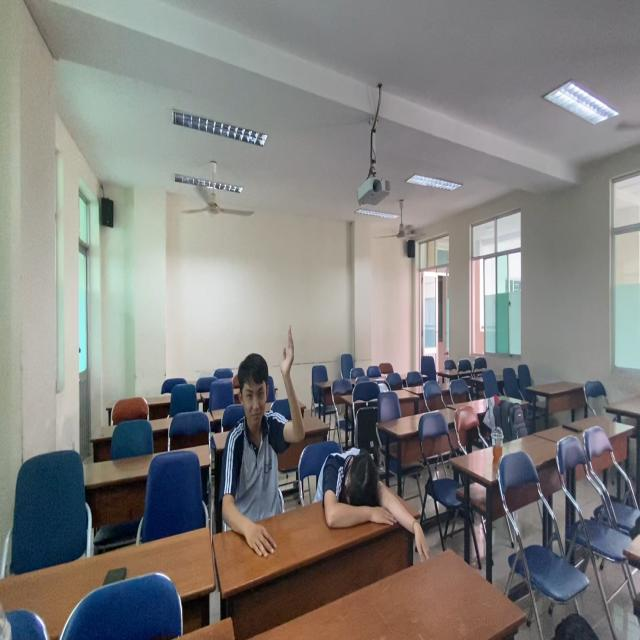raise_hand: (221, 316, 307, 564)
sleep: (302, 415, 399, 547)
